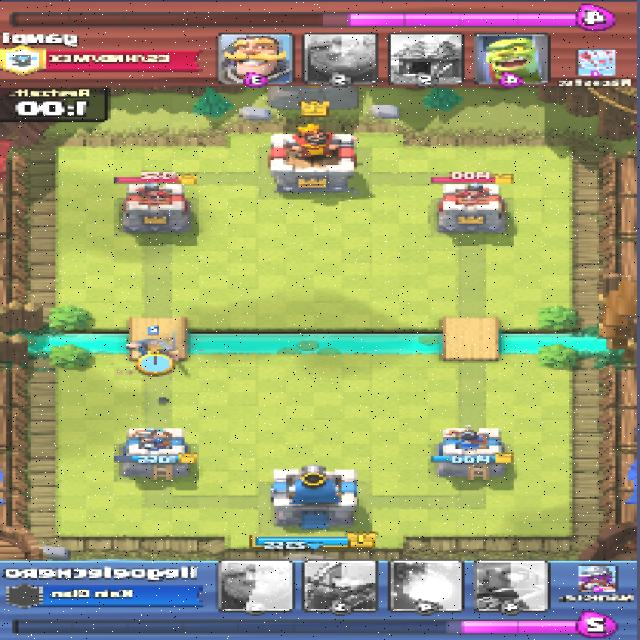Player-Knight: (127, 339, 181, 366)
